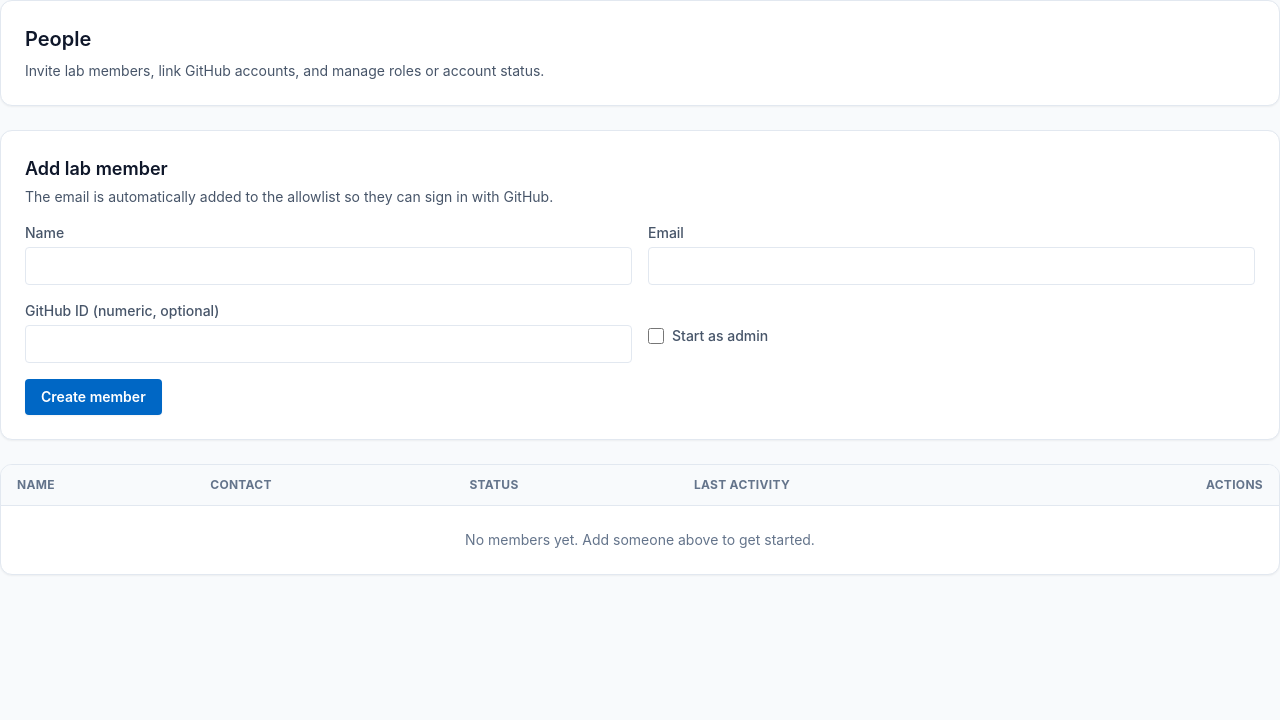
Test case: UserAdminTable › creates a new user via the form
This screenshot has width=1280, height=720.
Step 1. Type "Alex" into the field labelled "Name" → (328, 266), box [25,247,632,285]
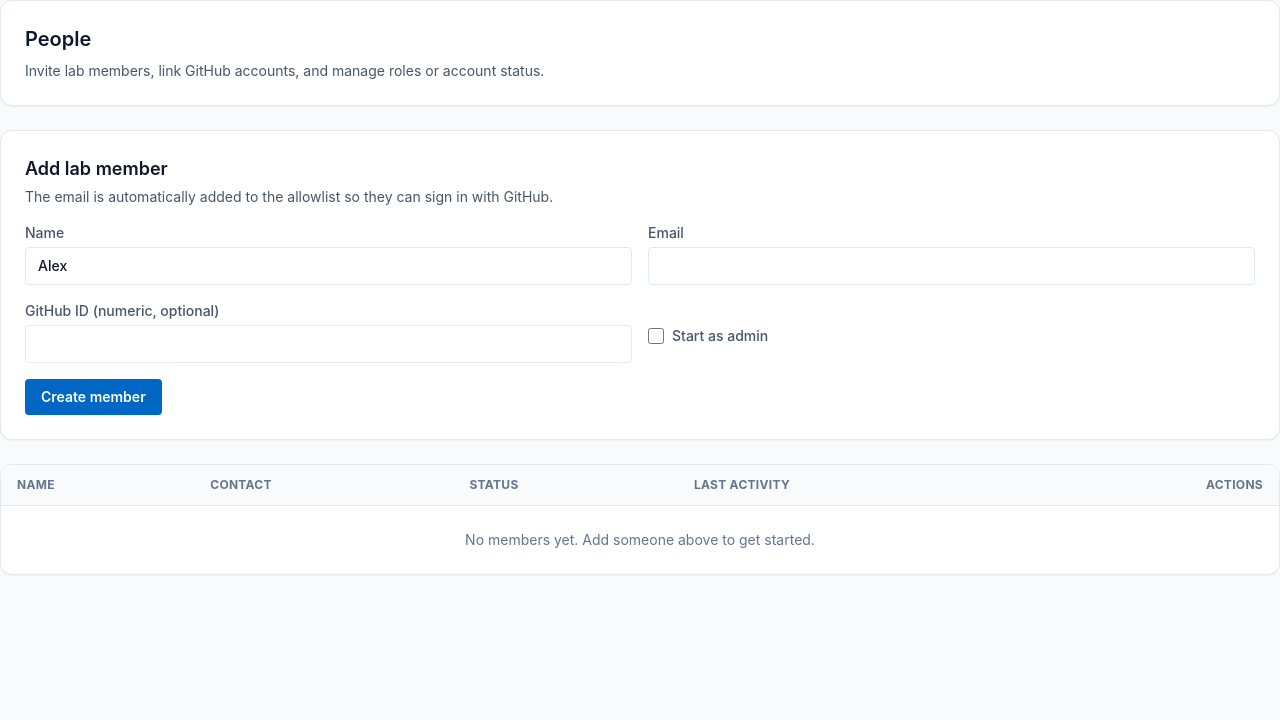
Step 2. Type "alex@example.com" into the field labelled "Email" → (952, 266), box [648,247,1255,285]
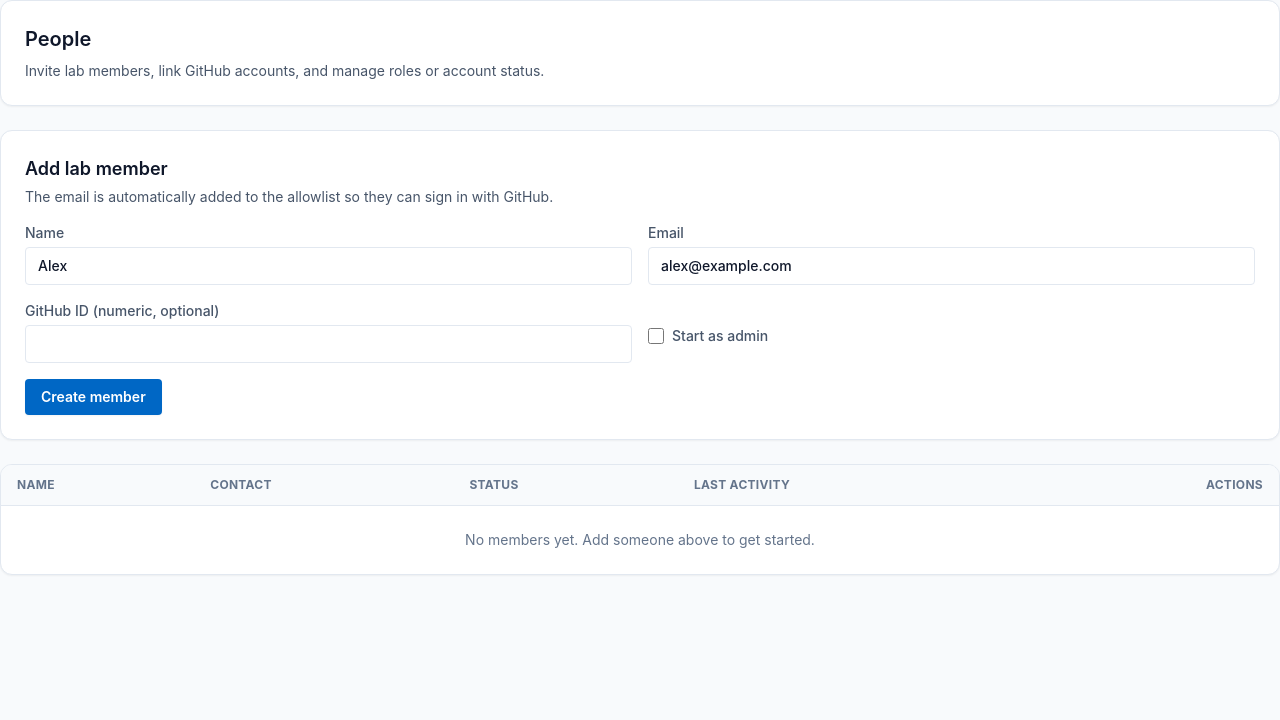
Step 3. Type "123" into the field labelled "GitHub ID (numeric, optional)" → (328, 344), box [25,325,632,363]
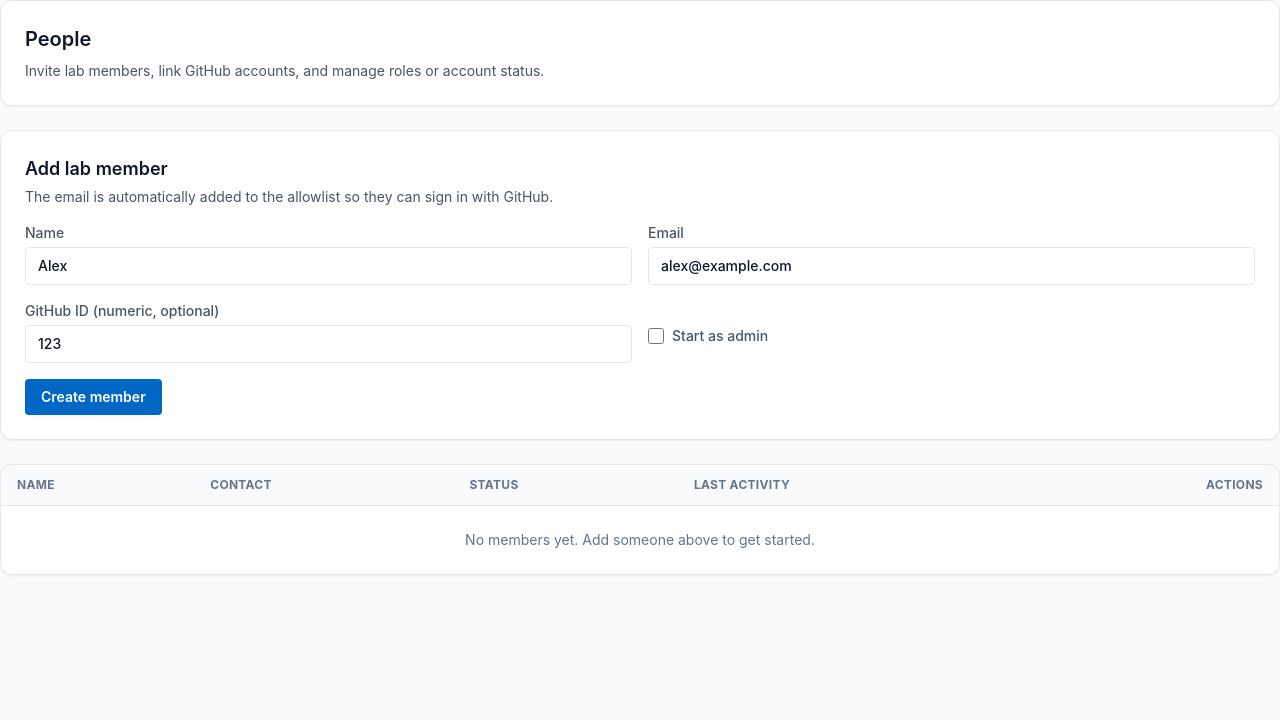
Step 4. Click the checkbox labelled "Start as admin" → (656, 336), box [648,328,664,344]
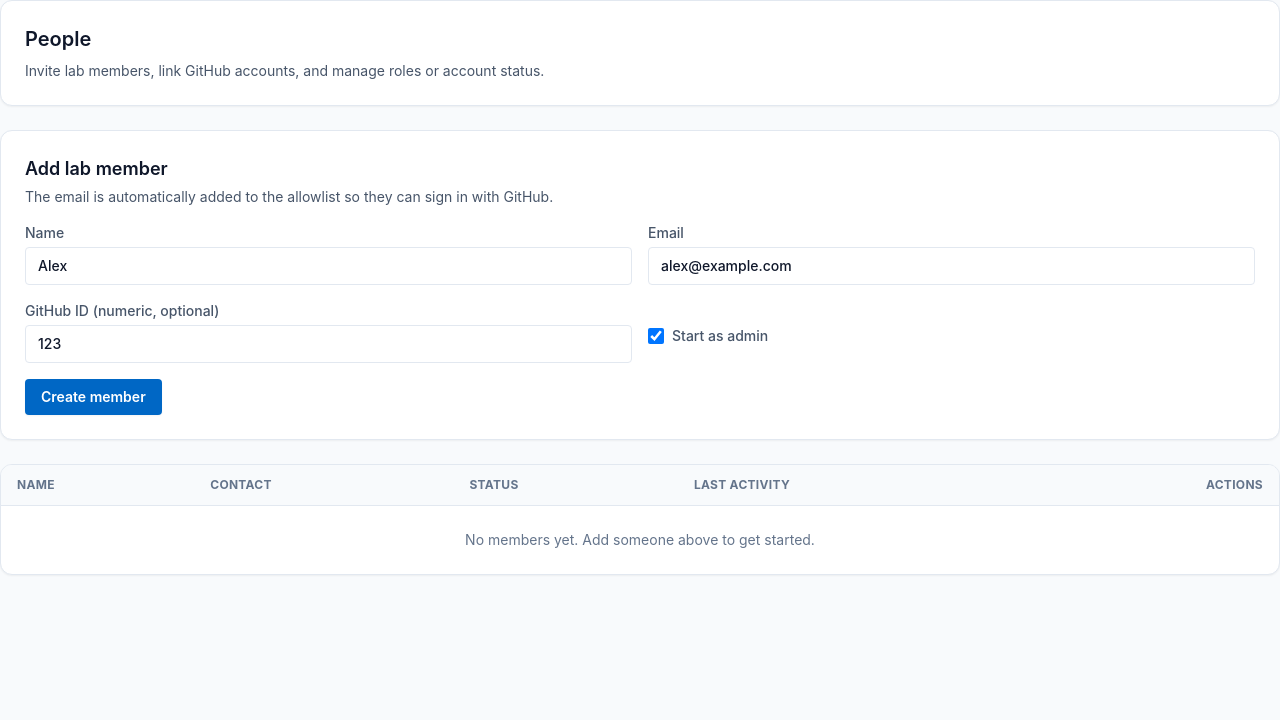
Step 5. Click the button "Create member" → (93, 397), box [25,379,162,415]
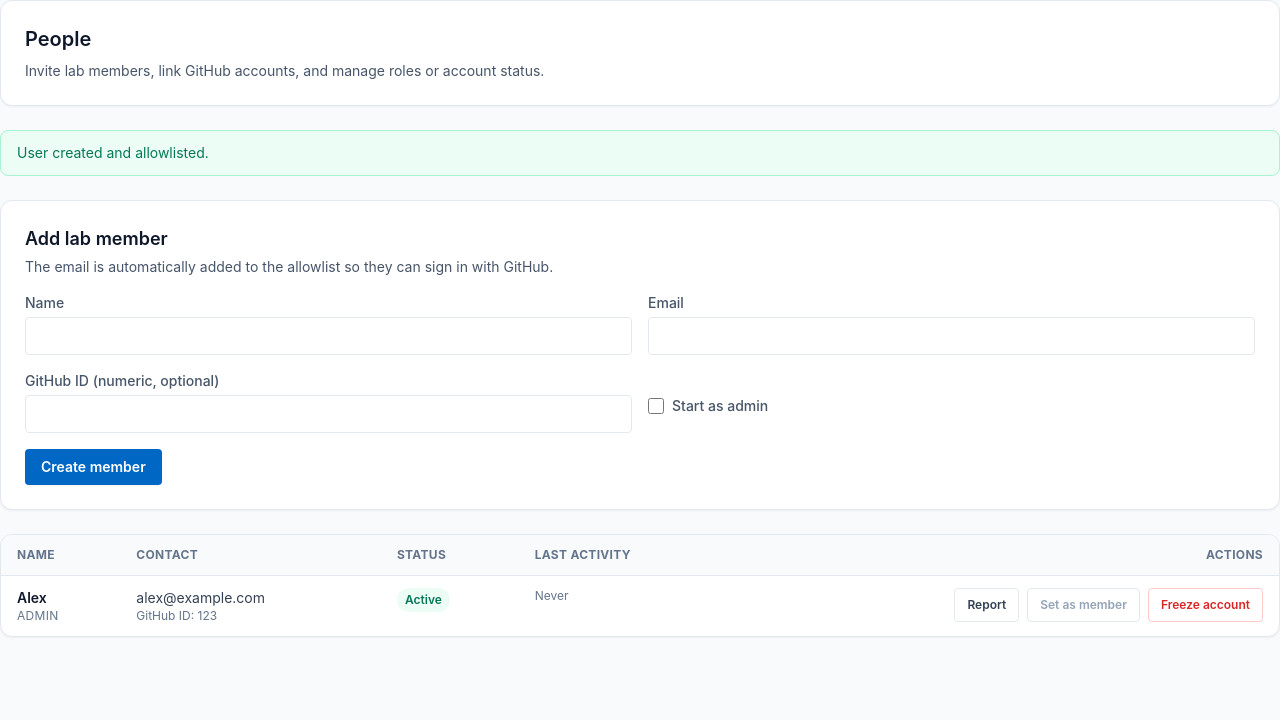
Now the text "alex@example.com" is shown, box [136,589,265,606]
